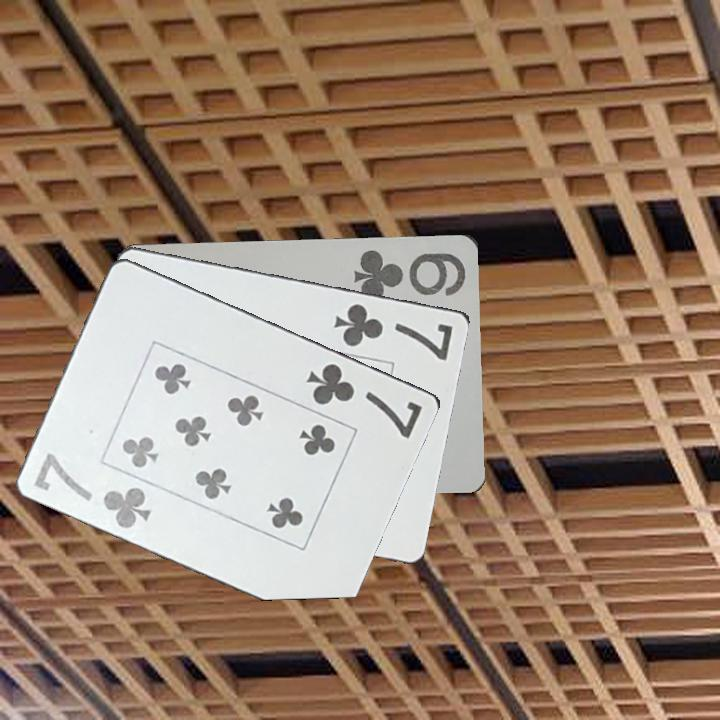6c: (350, 245, 470, 299)
7c: (30, 449, 155, 532), (303, 359, 427, 442), (330, 299, 457, 363)
